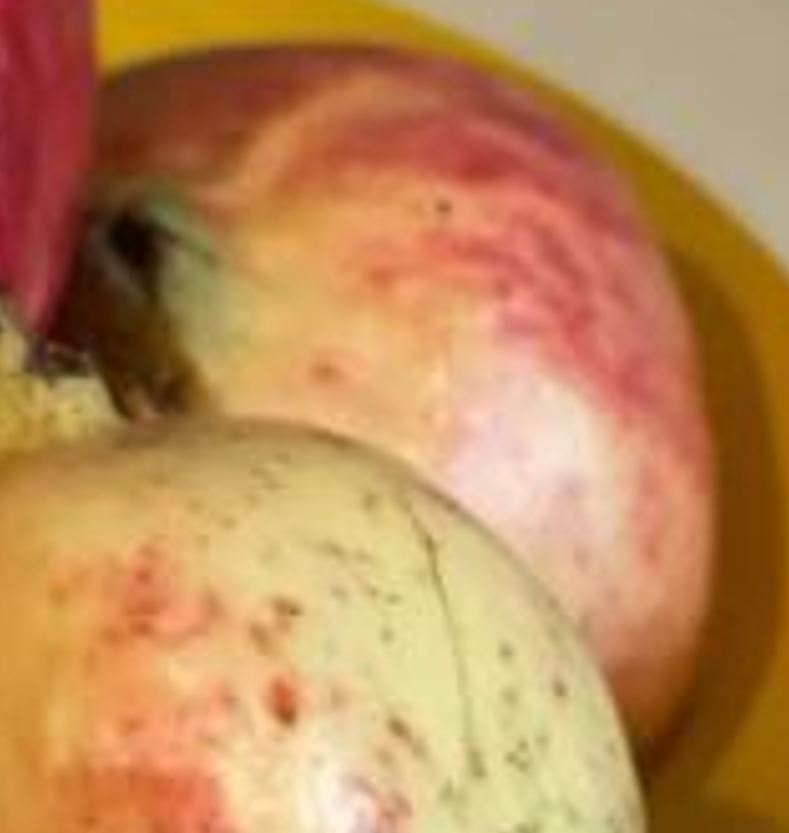pomegranate_B: (1, 47, 721, 770)
